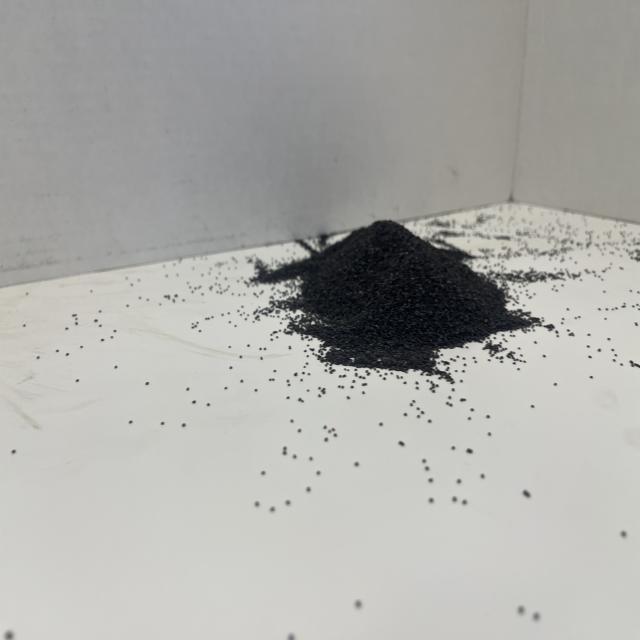Poppy Seeds: (255, 193, 546, 404)
